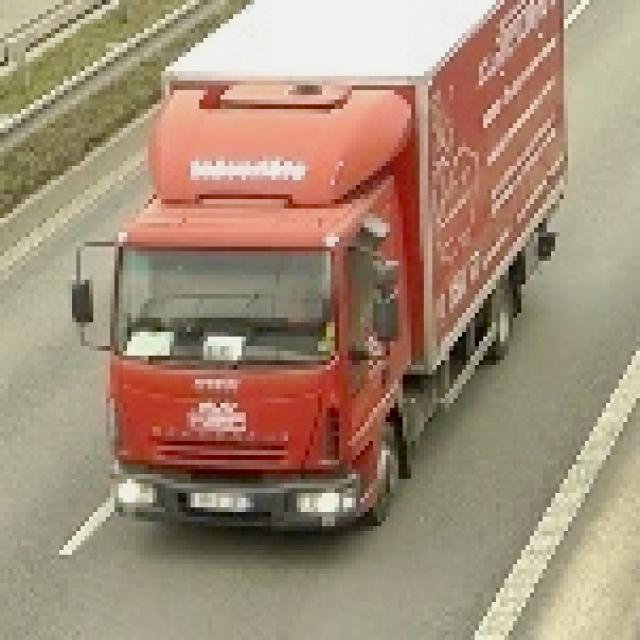truck: (69, 1, 565, 527)
